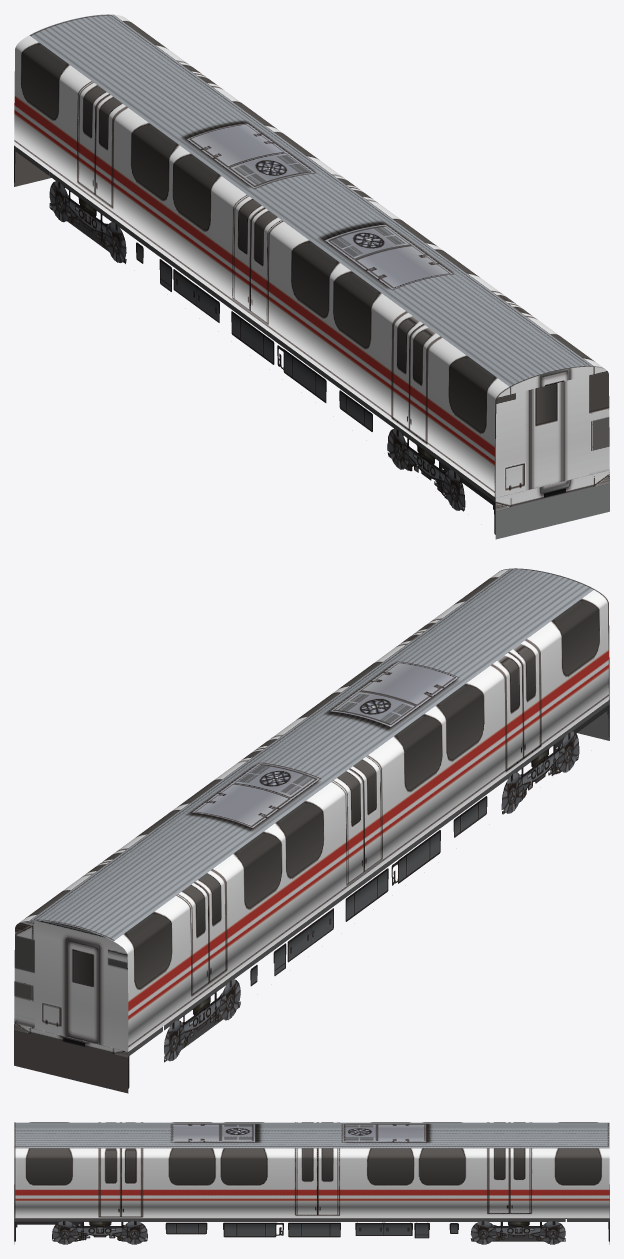
The model's file is car3.glb.
3 renders of one model, top to bottom at view 1: azimuth 30°, elevation 25°; view 2: azimuth 150°, elevation 25°; view 3: azimuth 270°, elevation 25°, orthographic. The views are drawn at different scales.
Parts seen in each view (by area): view 1: meitetsu-1200-car3; view 2: meitetsu-1200-car3; view 3: meitetsu-1200-car3.
Boxes of the visible parts, x1,y1,x2,y2 form: meitetsu-1200-car3: (14, 14, 609, 539); meitetsu-1200-car3: (14, 568, 609, 1093); meitetsu-1200-car3: (14, 1122, 609, 1244).
Size of the model in its own units: 2.74 by 3.52 by 20.03.
9 materials, 8 textured.
